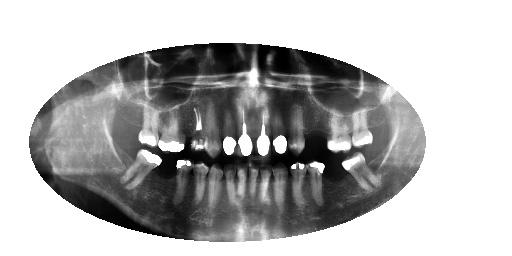i10decay: (223, 162, 237, 208)
i11chipped: (208, 163, 222, 212)
i12healthy: (193, 164, 210, 209)
i13healthy: (176, 158, 193, 201)
i14loss: (162, 158, 176, 195)
i15healthy: (116, 149, 163, 188)
i16loss: (113, 139, 133, 168)
i1loss: (369, 146, 389, 172)
i2healthy: (341, 150, 381, 202)
i3loss: (326, 159, 343, 210)
i4healthy: (306, 159, 329, 214)
i5decay: (290, 161, 309, 213)
i6healthy: (273, 161, 290, 218)
i7decay: (260, 162, 273, 212)
i8healthy: (247, 163, 259, 213)
i9healthy: (236, 163, 248, 211)
u10decay: (220, 97, 236, 159)
u11decay: (203, 100, 220, 160)
u12decay: (190, 100, 205, 151)
u13healthy: (157, 102, 189, 154)
u14healthy: (138, 97, 158, 147)
u15loss: (127, 103, 142, 139)
u16loss: (109, 100, 126, 136)
u1loss: (377, 106, 389, 142)
u2loss: (367, 111, 380, 141)
u3healthy: (350, 110, 375, 148)
u4healthy: (324, 107, 353, 155)
u5loss: (306, 109, 327, 155)
u6decay: (287, 100, 307, 158)
u7decay: (270, 98, 287, 156)
u8healthy: (255, 97, 271, 161)
u9healthy: (236, 99, 255, 160)
